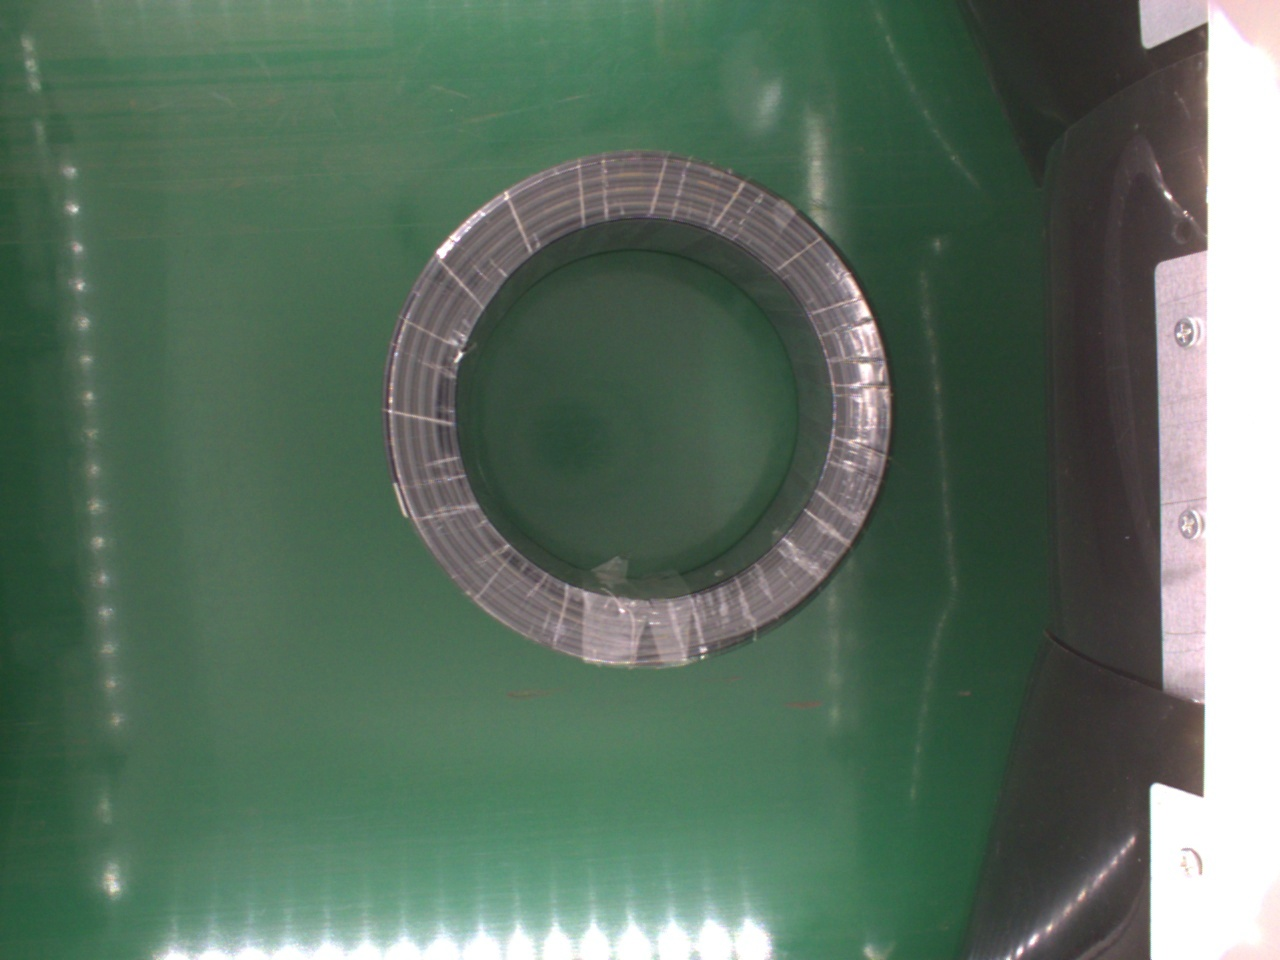black: (379, 152, 892, 674)
